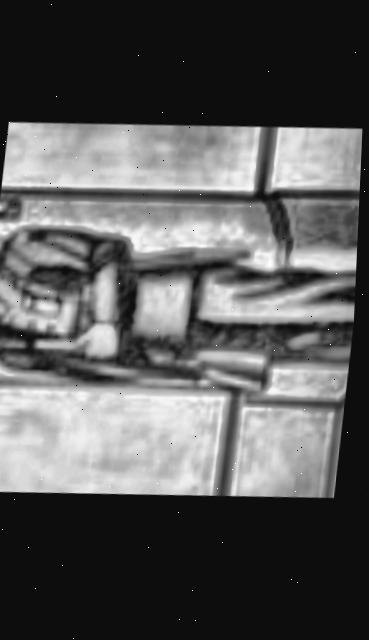El Soldado: (0, 108, 365, 516)
